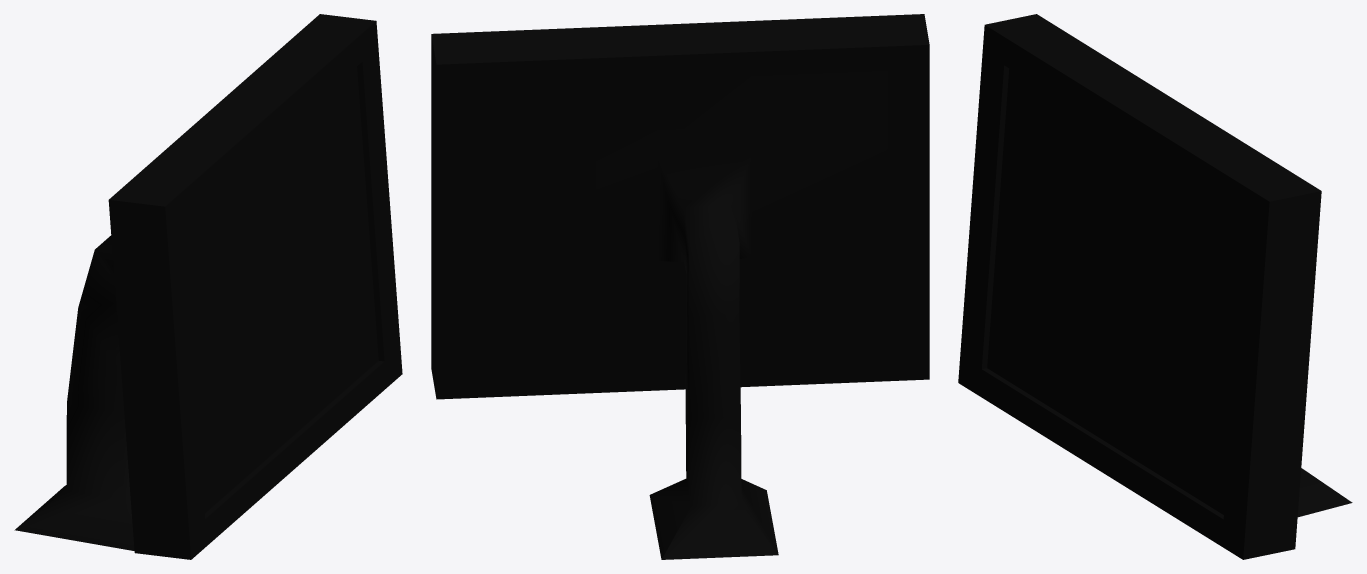
The model's file is Monitor.fbx.
The picture shows the model from 3 angles, left to right: view 1: azimuth 30°, elevation 25°; view 2: azimuth 150°, elevation 25°; view 3: azimuth 270°, elevation 25°; orthographic projection.
Parts seen in each view (by area): view 1: polySurface53; view 2: polySurface53; view 3: polySurface53.
Part boxes in pixels (x1,y1,x2,y2): polySurface53: (14,14,402,559); polySurface53: (431,14,929,559); polySurface53: (958,14,1352,559).
Bounding box in the file's own units: 36.5 × 38.08 × 31.09.
